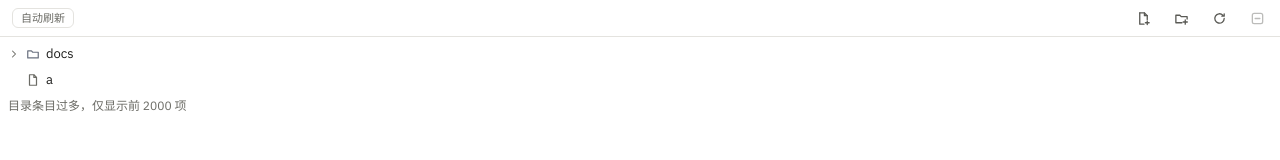
Test case: opening and the tree › shows 空目录 for an empty directory and the truncation notice for a listing cut at 2000 entries
The image size is (1280, 160).
Expected: the text "目录条目过多，仅显示前 2000 项" is shown, [8,97,186,115]
Click the list item "docs" at (41, 54), box [8,45,74,62]
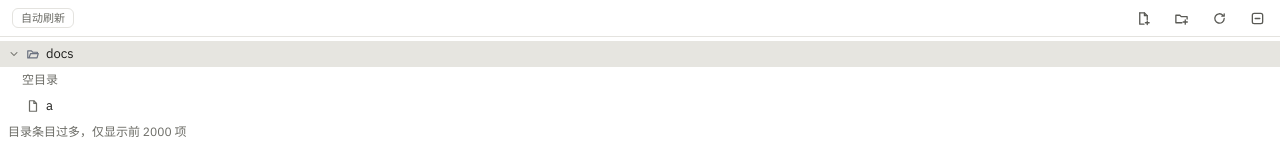
Expected: the text "空目录" is shown, [22,71,58,89]
